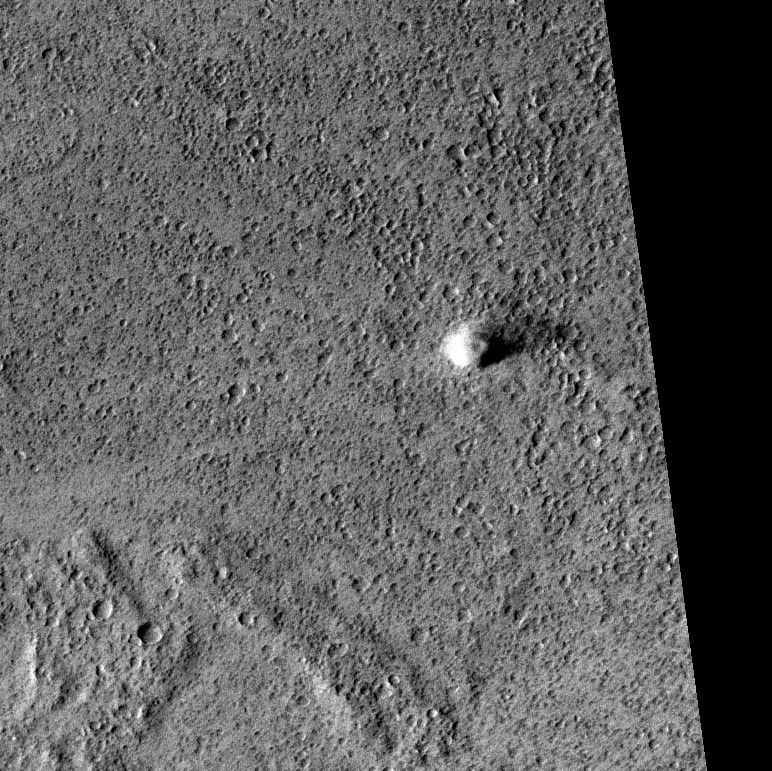dust_devil: (437, 317, 576, 369)
